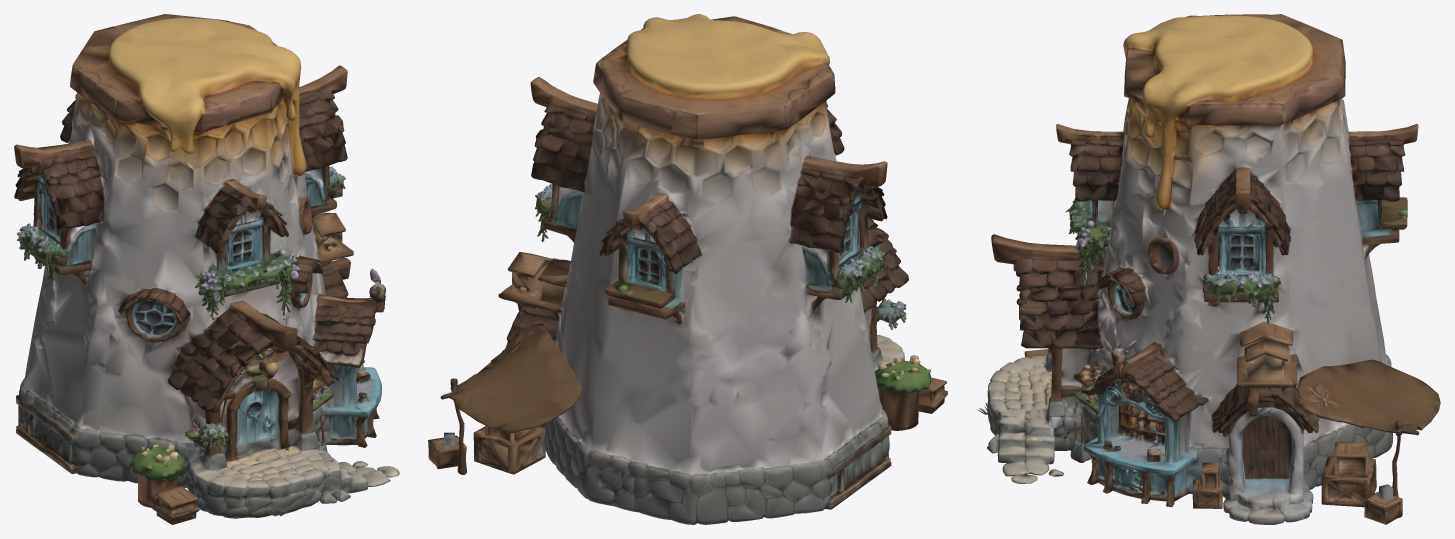
Rendered from fantasy-beehive-cottage.glb.
The picture shows the model from 3 angles, left to right: view 1: azimuth 30°, elevation 25°; view 2: azimuth 150°, elevation 25°; view 3: azimuth 270°, elevation 25°; orthographic projection. The views are drawn at different scales.
Visible parts, largest first — view 1: tripo_node_c09fecdb-cc0c-43c5-8943-1c0c15e8ade3; view 2: tripo_node_c09fecdb-cc0c-43c5-8943-1c0c15e8ade3; view 3: tripo_node_c09fecdb-cc0c-43c5-8943-1c0c15e8ade3.
Part boxes in pixels (x1,y1,x2,y2): tripo_node_c09fecdb-cc0c-43c5-8943-1c0c15e8ade3: [14, 14, 399, 524]; tripo_node_c09fecdb-cc0c-43c5-8943-1c0c15e8ade3: [428, 14, 947, 524]; tripo_node_c09fecdb-cc0c-43c5-8943-1c0c15e8ade3: [977, 14, 1440, 524].
Bounding box in the file's own units: 0.909 × 0.915 × 0.9984.
Materials: 1 (1 with a texture image).
